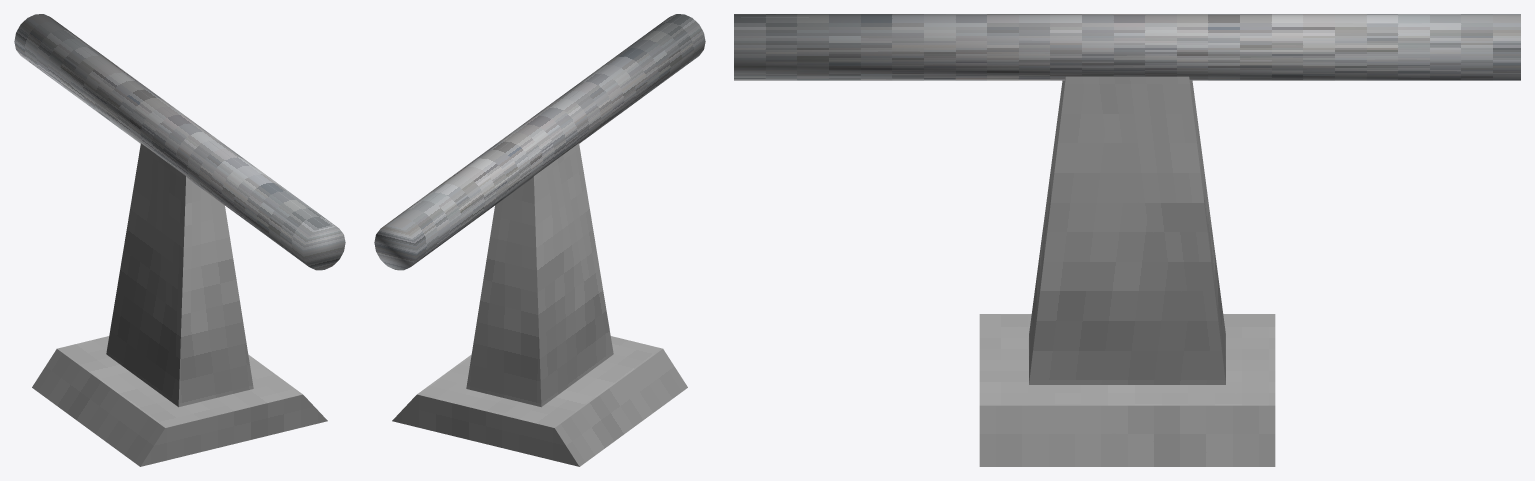
File: FixedShaft.obj
3 views of the same model, side by side, from view 1: azimuth 30°, elevation 25°; view 2: azimuth 150°, elevation 25°; view 3: azimuth 270°, elevation 25° (orthographic). The views are drawn at different scales.
Visible parts, largest first — view 1: Stand, Shaft; view 2: Stand, Shaft; view 3: Stand, Shaft.
Part boxes in pixels (x1,y1,x2,y2): Stand: (32, 143, 327, 466); Shaft: (14, 14, 345, 270); Stand: (392, 143, 687, 466); Shaft: (374, 14, 705, 270); Stand: (979, 76, 1275, 466); Shaft: (734, 14, 1520, 80).
Bounding box in the file's own units: 0.375 × 0.5424 × 0.9982.
Materials: 2 (2 with a texture image).
